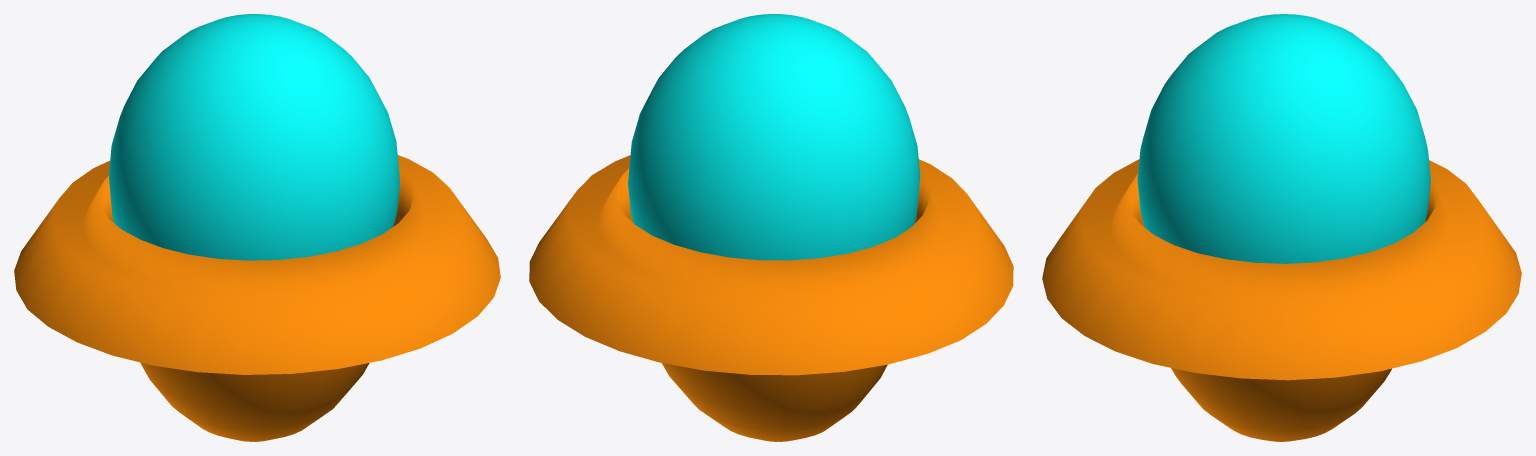
File: Lago_Huevo.fbx
The picture shows the model from 3 angles, left to right: view 1: azimuth 30°, elevation 25°; view 2: azimuth 150°, elevation 25°; view 3: azimuth 270°, elevation 25°; orthographic projection.
Visible parts, largest first — view 1: Sparkles; view 2: Sparkles; view 3: Sparkles.
Part boxes in pixels (x1,y1,x2,y2): Sparkles: (14, 14, 500, 441); Sparkles: (529, 14, 1013, 441); Sparkles: (1042, 14, 1521, 441).
Bounding box in the file's own units: 142 × 130 × 139.
